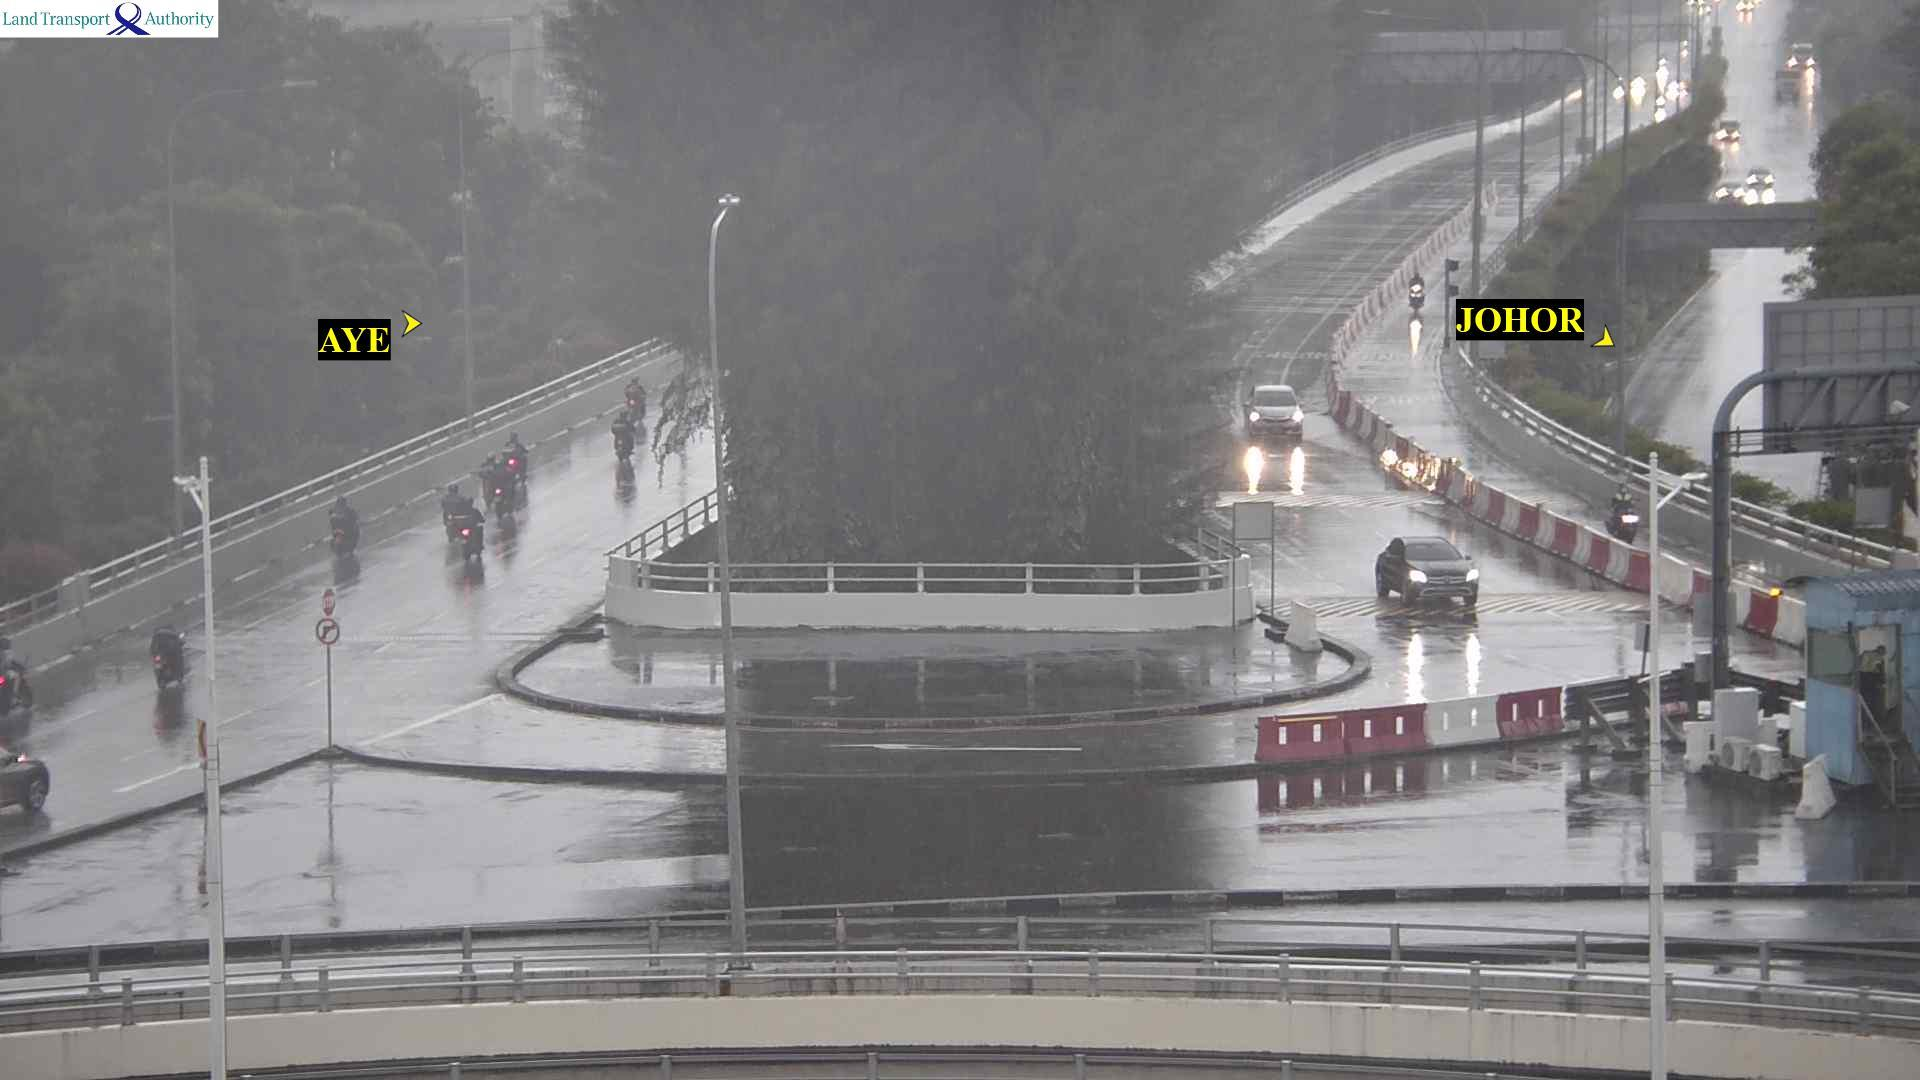vehicle-secondlink-johor: (1386, 539, 1480, 621), (1240, 375, 1304, 442), (1602, 484, 1636, 535), (1402, 265, 1424, 311)
vehicle-secondlink-singapore: (0, 741, 49, 848), (0, 640, 34, 717), (149, 626, 196, 678), (327, 488, 360, 560), (616, 368, 653, 421), (454, 508, 481, 571), (605, 411, 630, 467), (492, 471, 520, 516), (440, 484, 463, 529)
